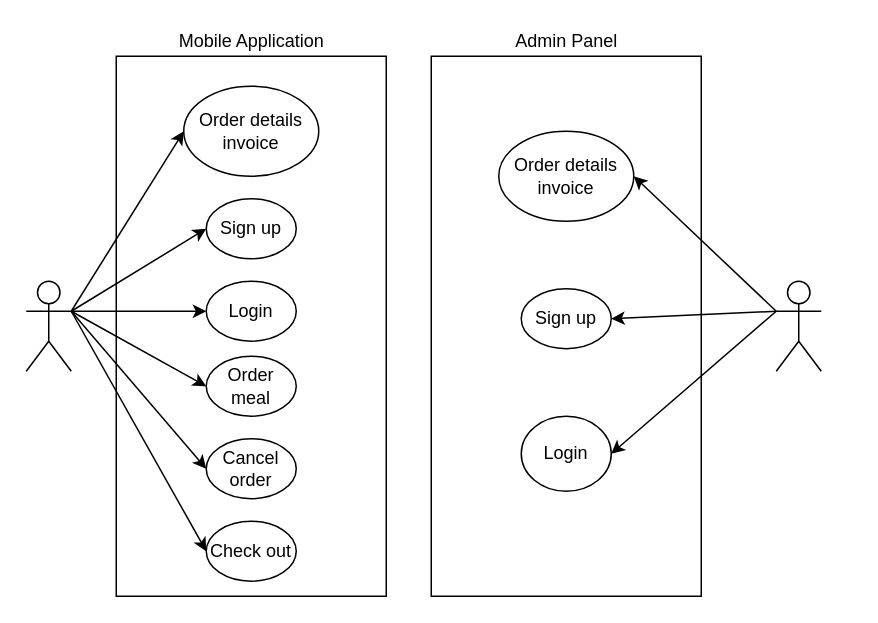
This 878x623 diagram has some shape labels left out. Here are the shapes that lost their labels. From the top down, the centre of each, then its label:
At (48,325): "User".
At (798,325): "Administrator".
